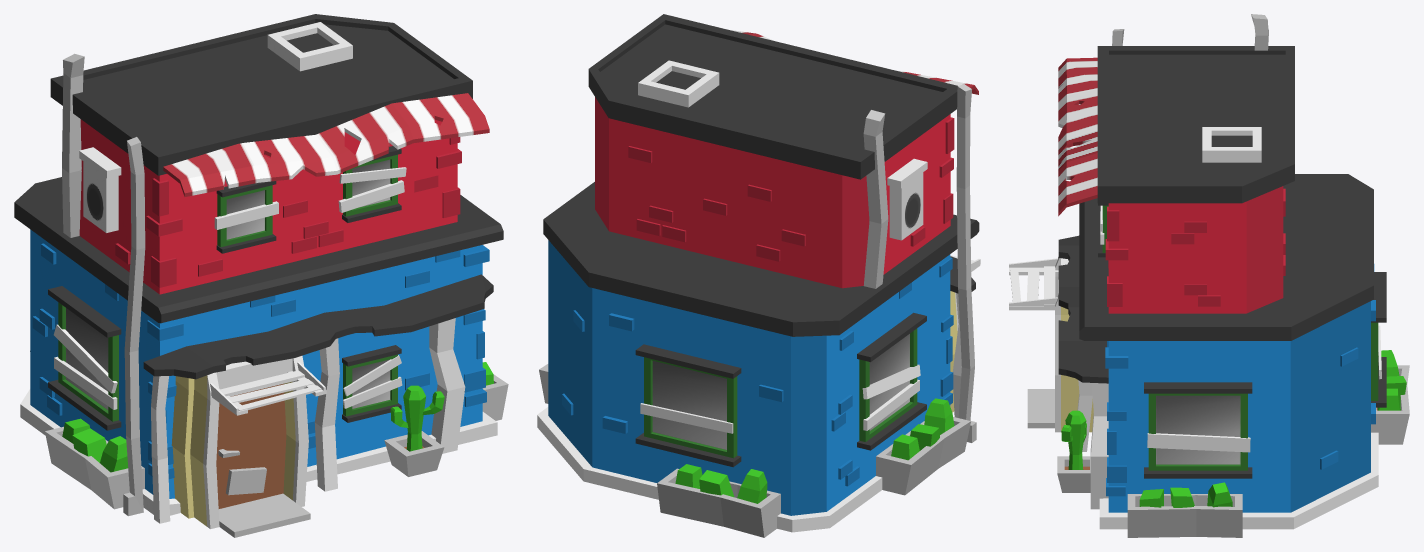
File: Little Tropical House.fbx
The picture shows the model from 3 angles, left to right: view 1: azimuth 30°, elevation 25°; view 2: azimuth 150°, elevation 25°; view 3: azimuth 270°, elevation 25°; orthographic projection. The views are drawn at different scales.
Visible parts, largest first — view 1: Little Tropical House; view 2: Little Tropical House; view 3: Little Tropical House.
Boxes of the visible parts, x1,y1,x2,y2 form: Little Tropical House: [14, 14, 508, 537]; Little Tropical House: [537, 14, 980, 537]; Little Tropical House: [1009, 14, 1409, 537].
Size of the model in its own units: 3.19 by 3.06 by 3.05.
